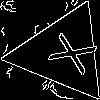X: (37, 28, 98, 76)
